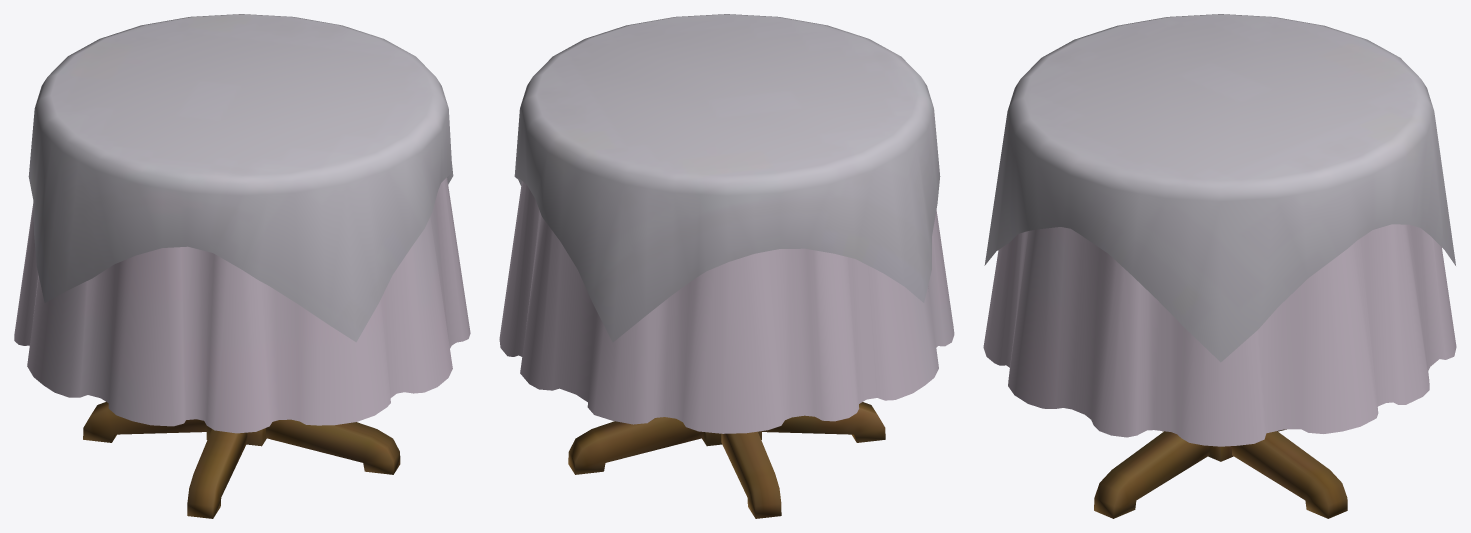
3 views of the same model, side by side, from view 1: azimuth 30°, elevation 25°; view 2: azimuth 150°, elevation 25°; view 3: azimuth 270°, elevation 25° (orthographic). The views are drawn at different scales.
Size of the model in its own units: 9.89 by 8.51 by 9.92.
2 materials, 2 textured.
